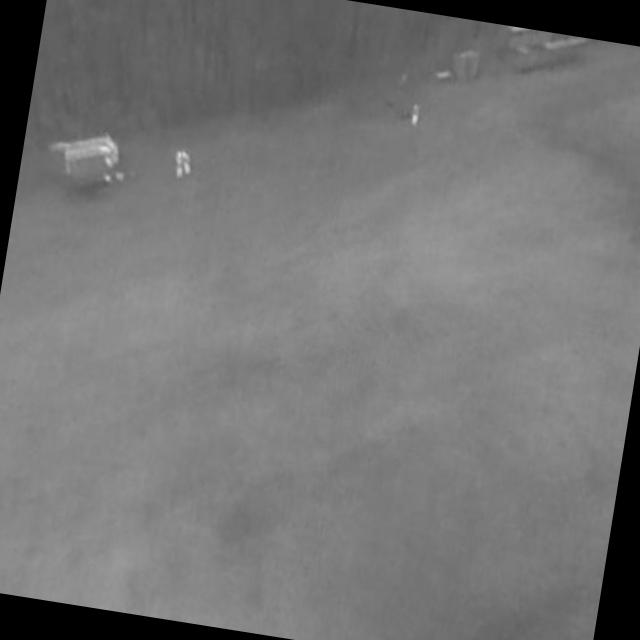person: (179, 150, 197, 179), (173, 151, 188, 181), (411, 103, 422, 129)
